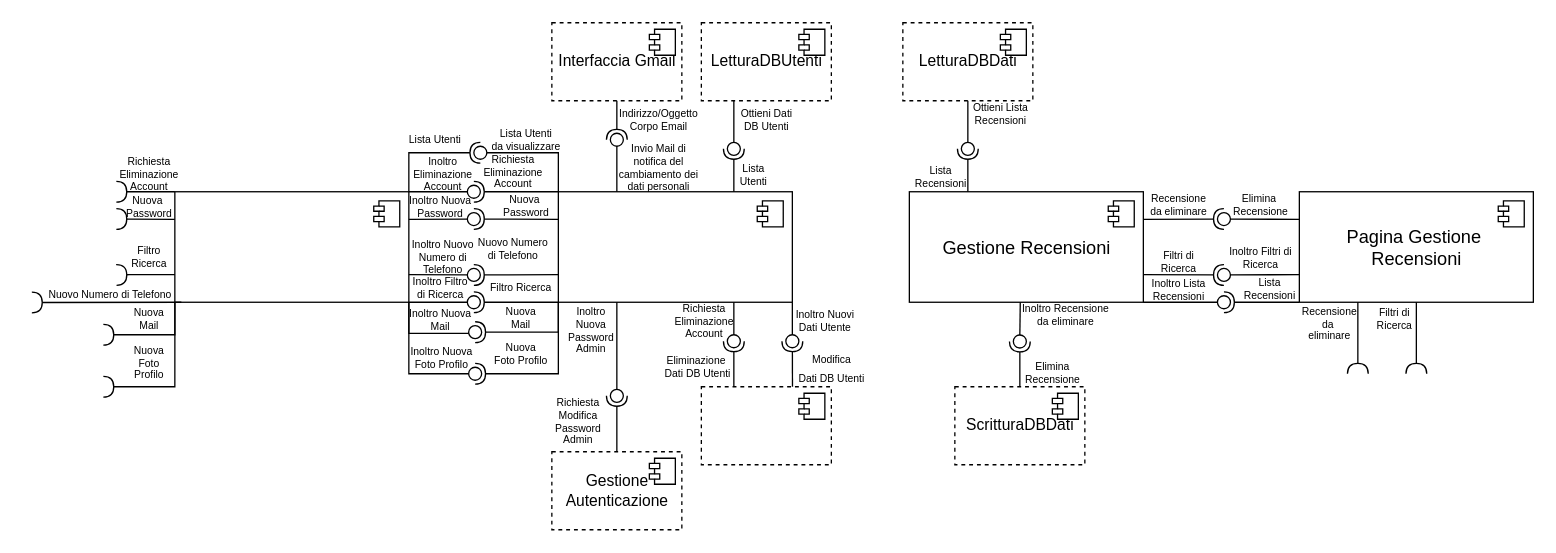
Some shapes in this 1556 by 553 pixel diagram are drawn without their labels. The box of each missing label's shape, as (x1, y1, x2, y2) in pixels:
Gestione Utenti: (557, 190, 792, 302)
Pagina Gestione Utenti: (174, 190, 409, 302)
ScritturaDBUtenti: (700, 385, 831, 465)
